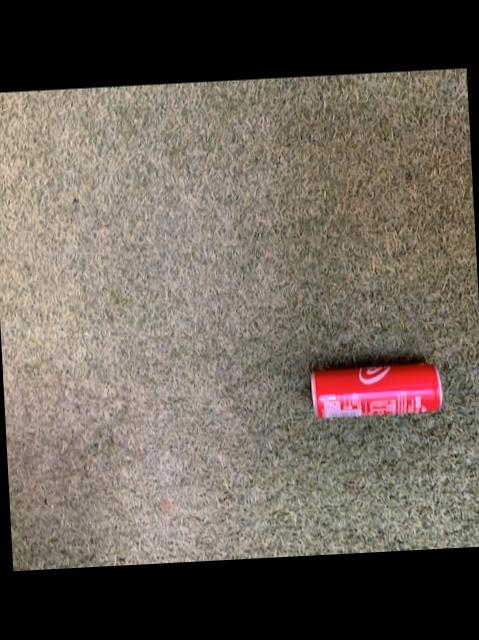metal: (309, 364, 439, 416)
